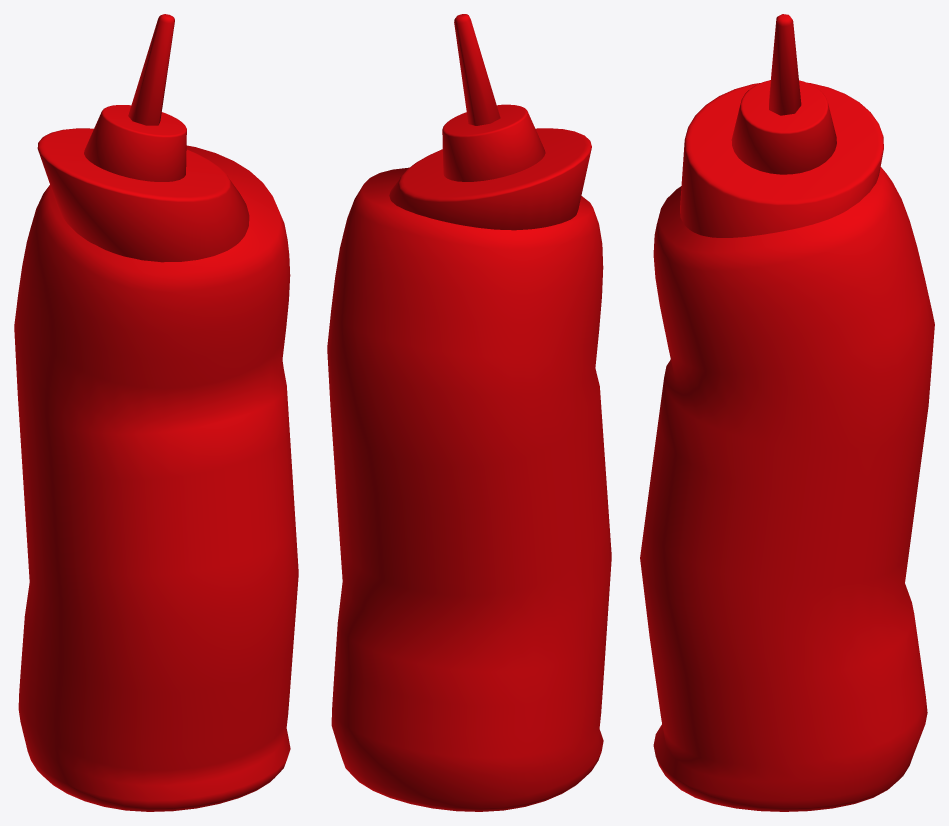
Rendered from Ketchupbottleirregular.fbx.
The picture shows the model from 3 angles, left to right: view 1: azimuth 30°, elevation 25°; view 2: azimuth 150°, elevation 25°; view 3: azimuth 270°, elevation 25°; orthographic projection.
Visible parts, largest first — view 1: Cube; view 2: Cube; view 3: Cube.
Boxes of the visible parts, x1,y1,x2,y2 form: Cube: [14, 14, 298, 811]; Cube: [327, 14, 611, 811]; Cube: [640, 14, 934, 811].
Bounding box in the file's own units: 183 × 572 × 203.
